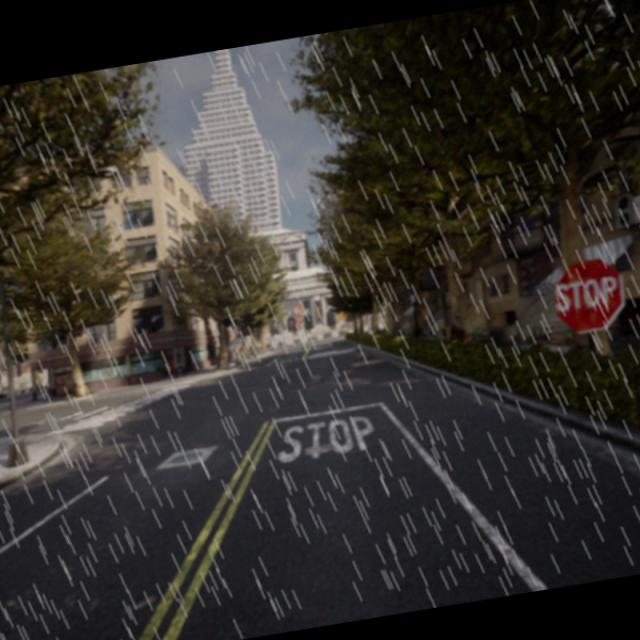stop sign: (550, 254, 626, 336), (555, 273, 618, 318)
